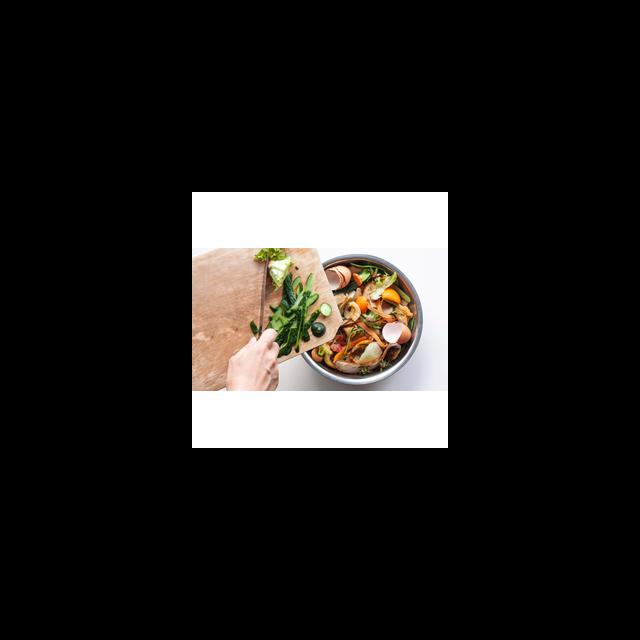food_waste: (273, 274, 335, 343), (365, 307, 409, 350), (334, 293, 372, 319), (323, 268, 356, 294)
